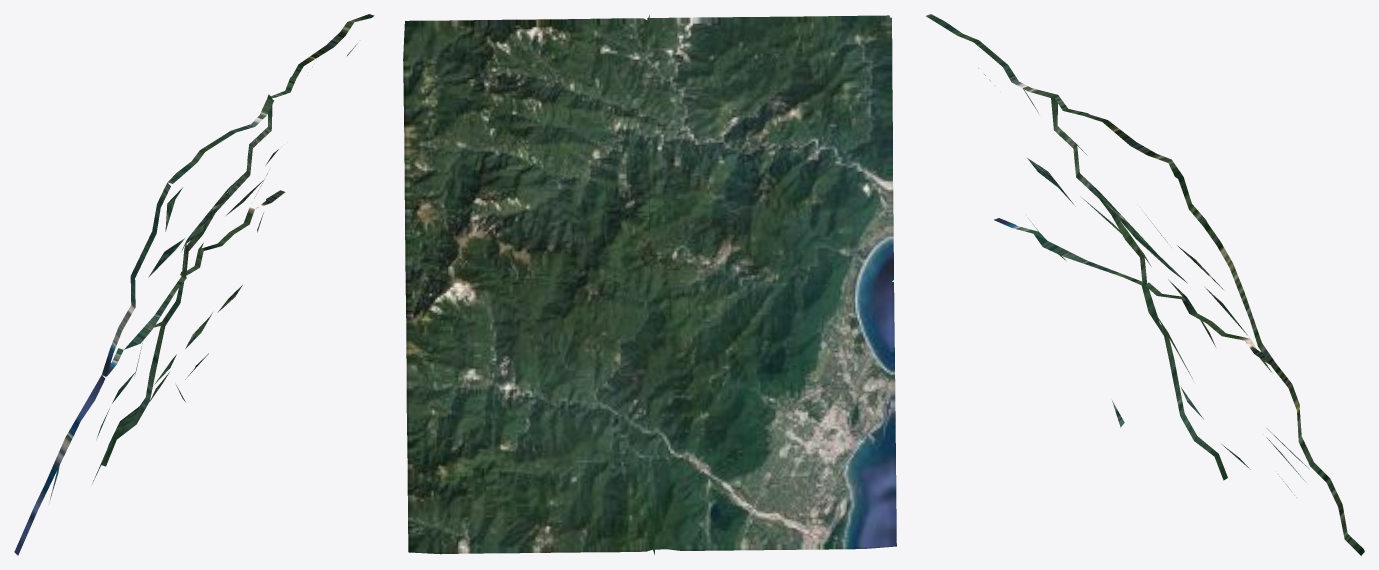
3 views of the same model, side by side, from view 1: azimuth 30°, elevation 25°; view 2: azimuth 150°, elevation 25°; view 3: azimuth 270°, elevation 25° (orthographic). The views are drawn at different scales.
Bounding box in the file's own units: 37948 × 37451 × 33702.
1 material, 1 textured.
